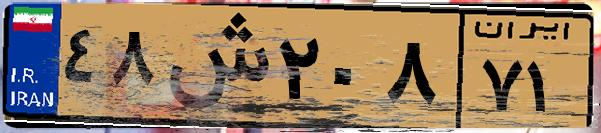0: (330, 28, 385, 110)
1: (525, 38, 570, 115)
2: (270, 28, 330, 110)
4: (57, 26, 110, 100)
7: (475, 38, 525, 113)
8: (385, 28, 445, 110), (110, 28, 158, 98)
ش: (158, 12, 270, 120)
